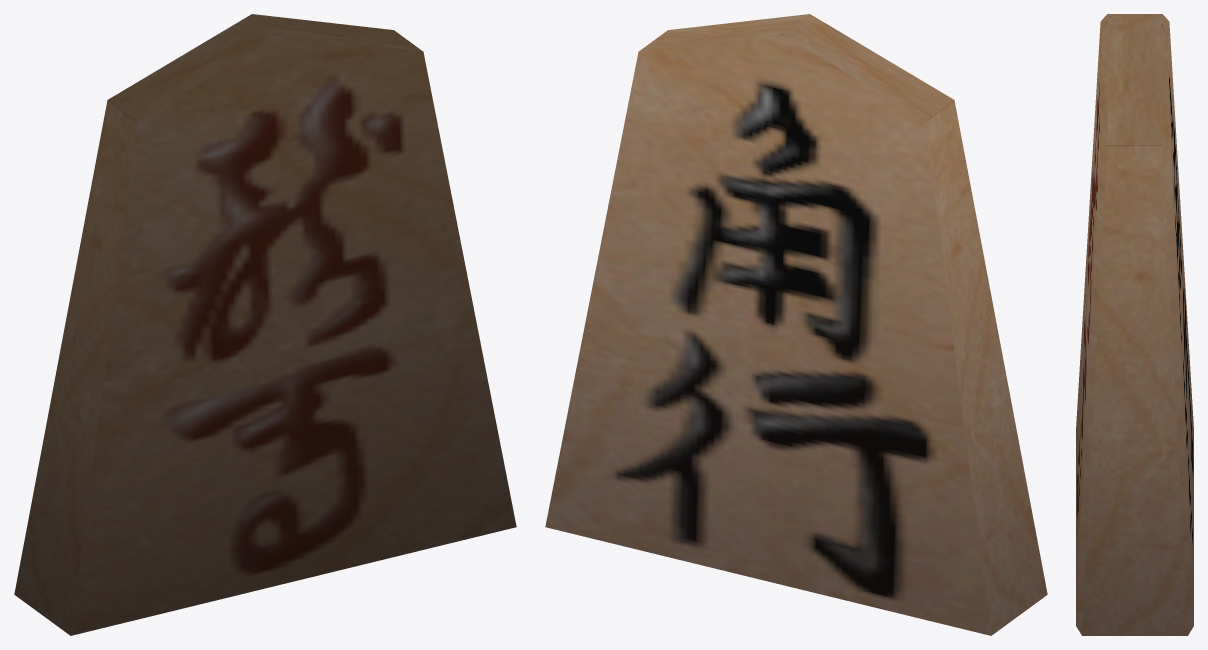
Rendered from lst.ico.obj.
The picture shows the model from 3 angles, left to right: view 1: azimuth 30°, elevation 25°; view 2: azimuth 150°, elevation 25°; view 3: azimuth 270°, elevation 25°; orthographic projection. The views are drawn at different scales.
Size of the model in its own units: 4.11 by 4.73 by 1.
1 material, 1 textured.
